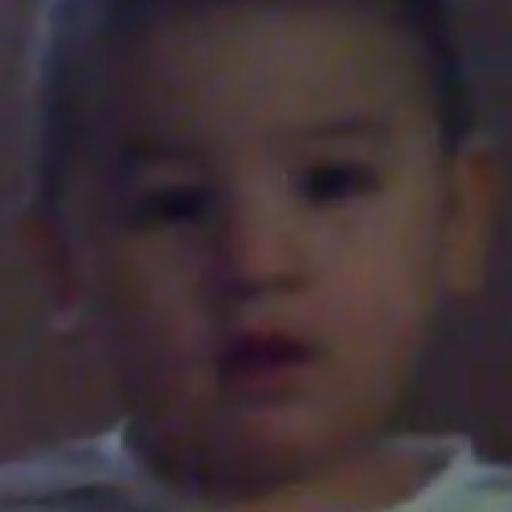Autism: (65, 14, 494, 485)
